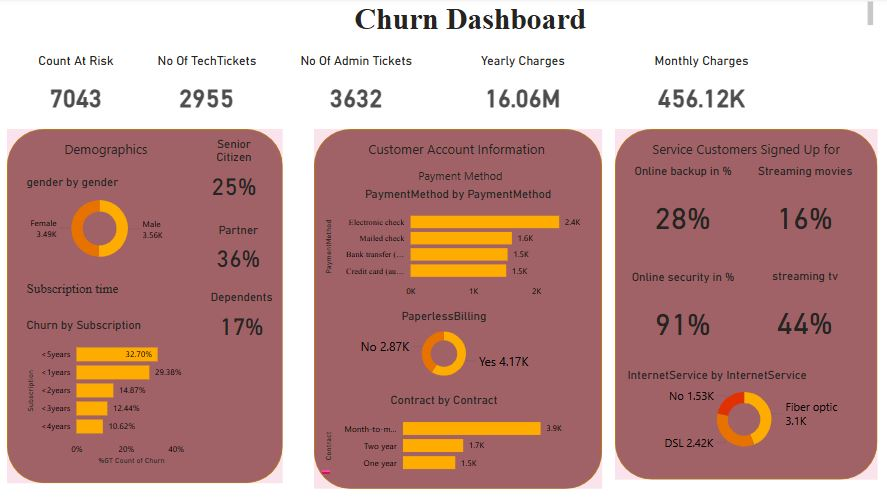

Layout of this report page (visuals, bound fields, positions):
{"tool":"powerbi","page":{"name":"Churn","canvas":[1280,720],"ordinal":1},"visuals":[{"type":"cardVisual","title":"Count At Risk","fields":{"Data":["CountNonNull(01 Churn-Dataset.customerID)"]},"box":[9.5,79.4,198.4,85.7],"z":0},{"type":"cardVisual","title":"No Of Admin Tickets","fields":{"Data":["Sum(01 Churn-Dataset.numAdminTickets)"]},"box":[401.6,79.4,222.2,85.7],"z":1000},{"type":"cardVisual","title":"Yearly Charges","fields":{"Data":["Sum(01 Churn-Dataset.TotalCharges)"]},"box":[639.7,79.4,227,98.4],"z":2000},{"type":"cardVisual","title":"Monthly Charges","fields":{"Data":["Sum(01 Churn-Dataset.MonthlyCharges)"]},"box":[885.7,79.4,249.2,98.4],"z":3000},{"type":"shape","box":[10.1,188.1,397,510],"z":4000},{"type":"shape","box":[885.7,188.9,377.8,504.8],"z":5000},{"type":"shape","box":[452.2,188.6,414.7,518.4],"z":6000},{"type":"textbox","box":[33.3,200,238.1,39.7],"z":7000},{"type":"textbox","box":[487.3,200,341.3,39.7],"z":8000},{"type":"textbox","box":[925.9,200.2,296.6,38.9],"z":9000},{"type":"donutChart","title":" gender by gender","fields":{"Category":["01 Churn-Dataset.gender"],"Y":["CountNonNull(01 Churn-Dataset.gender)"]},"box":[33.3,255.6,220.6,134.9],"z":10000},{"type":"cardVisual","title":"No Of TechTickets","fields":{"Data":["Sum(01 Churn-Dataset.numTechTickets)"]},"box":[207.9,79.4,181,85.7],"z":11000},{"type":"textbox","box":[33.6,403.1,199.9,45.4],"z":12000},{"type":"clusteredBarChart","title":"  Churn by Subscription","fields":{"Y":["CountNonNull(01 Churn-Dataset.Churn)"],"Category":["01 Churn-Dataset.Subscription"]},"box":[33.2,461.2,252.5,215.3],"z":13000},{"type":"card","title":"Senior Citizen","fields":{"Values":["01 Churn-Dataset.% of Senior Citizen"]},"box":[285.7,200,103.2,100],"z":14000},{"type":"card","title":"Partner","fields":{"Values":["01 Churn-Dataset.% of Partner"]},"box":[285.7,323.8,115.9,79.4],"z":15000},{"type":"card","title":"Dependents","fields":{"Values":["01 Churn-Dataset.% of Dependents"]},"box":[293.7,420.6,107.9,82.5],"z":16000},{"type":"textbox","box":[469.4,240.5,387.4,31.7],"z":17000},{"type":"clusteredBarChart","title":" PaymentMethod by PaymentMethod","fields":{"Category":["01 Churn-Dataset.PaymentMethod"],"Y":["CountNonNull(01 Churn-Dataset.PaymentMethod)"]},"box":[462.2,272.2,394.6,168.5],"z":18000},{"type":"donutChart","title":" PaperlessBilling","fields":{"Y":["CountNonNull(01 Churn-Dataset.PaperlessBilling)"],"Category":["01 Churn-Dataset.PaperlessBilling"]},"box":[461.9,447.6,354,109.5],"z":19000},{"type":"clusteredBarChart","title":"Contract by Contract","fields":{"Y":["CountNonNull(01 Churn-Dataset.Contract)"],"Category":["01 Churn-Dataset.Contract"]},"box":[461.9,568.3,354,125.4],"z":20000},{"type":"donutChart","title":"InternetService by InternetService","fields":{"Y":["CountNonNull(01 Churn-Dataset.InternetService)"],"Category":["01 Churn-Dataset.InternetService"]},"box":[898.4,533.3,346,128.6],"z":21000},{"type":"cardVisual","title":"Online backup in %","fields":{"Data":["01 Churn-Dataset.Online backup in %"]},"box":[898.4,239.7,169.8,128.6],"z":22000},{"type":"cardVisual","title":"streaming tv","fields":{"Data":["01 Churn-Dataset.Streaming movies in %"]},"box":[1074.6,390.5,169.8,130.2],"z":23000},{"type":"cardVisual","title":"Online security in %","fields":{"Data":["01 Churn-Dataset.phone Service in %"]},"box":[898.4,392.1,169.8,128.6],"z":24000},{"type":"cardVisual","title":"Streaming movies","fields":{"Data":["01 Churn-Dataset.Online security in %"]},"box":[1074.6,239.7,169.8,128.6],"z":25000},{"type":"textbox","box":[100,0,1163.5,50.8],"z":26000}]}

Visuals, with their boxes in screenshot pixels (x1, y1, x2, y2), scaled from the page's 1280x720 canvas onto the 887x498 screenshot:
"Count At Risk" cardVisual: locate(7, 55, 144, 114)
"No Of Admin Tickets" cardVisual: locate(278, 55, 432, 114)
"Yearly Charges" cardVisual: locate(443, 55, 601, 123)
"Monthly Charges" cardVisual: locate(614, 55, 786, 123)
shape: locate(7, 130, 282, 483)
shape: locate(614, 131, 876, 480)
shape: locate(313, 130, 601, 489)
textbox: locate(23, 138, 188, 166)
textbox: locate(338, 138, 574, 166)
textbox: locate(642, 138, 847, 165)
" gender by gender" donutChart: locate(23, 177, 176, 270)
"No Of TechTickets" cardVisual: locate(144, 55, 269, 114)
textbox: locate(23, 279, 162, 310)
"  Churn by Subscription" clusteredBarChart: locate(23, 319, 198, 468)
"Senior Citizen" card: locate(198, 138, 269, 208)
"Partner" card: locate(198, 224, 278, 279)
"Dependents" card: locate(204, 291, 278, 348)
textbox: locate(325, 166, 594, 188)
" PaymentMethod by PaymentMethod" clusteredBarChart: locate(320, 188, 594, 305)
" PaperlessBilling" donutChart: locate(320, 310, 565, 385)
"Contract by Contract" clusteredBarChart: locate(320, 393, 565, 480)
"InternetService by InternetService" donutChart: locate(623, 369, 862, 458)
"Online backup in %" cardVisual: locate(623, 166, 740, 255)
"streaming tv" cardVisual: locate(745, 270, 862, 360)
"Online security in %" cardVisual: locate(623, 271, 740, 360)
"Streaming movies" cardVisual: locate(745, 166, 862, 255)
textbox: locate(69, 0, 876, 35)
